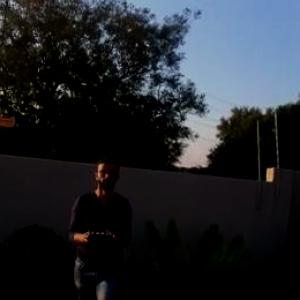follow: (64, 140, 138, 298)
